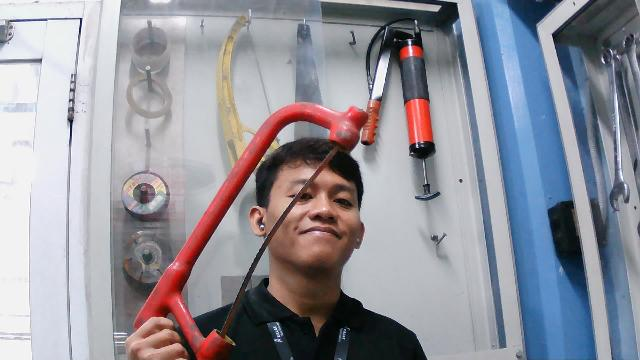gergaji_besi: (123, 95, 370, 359)
